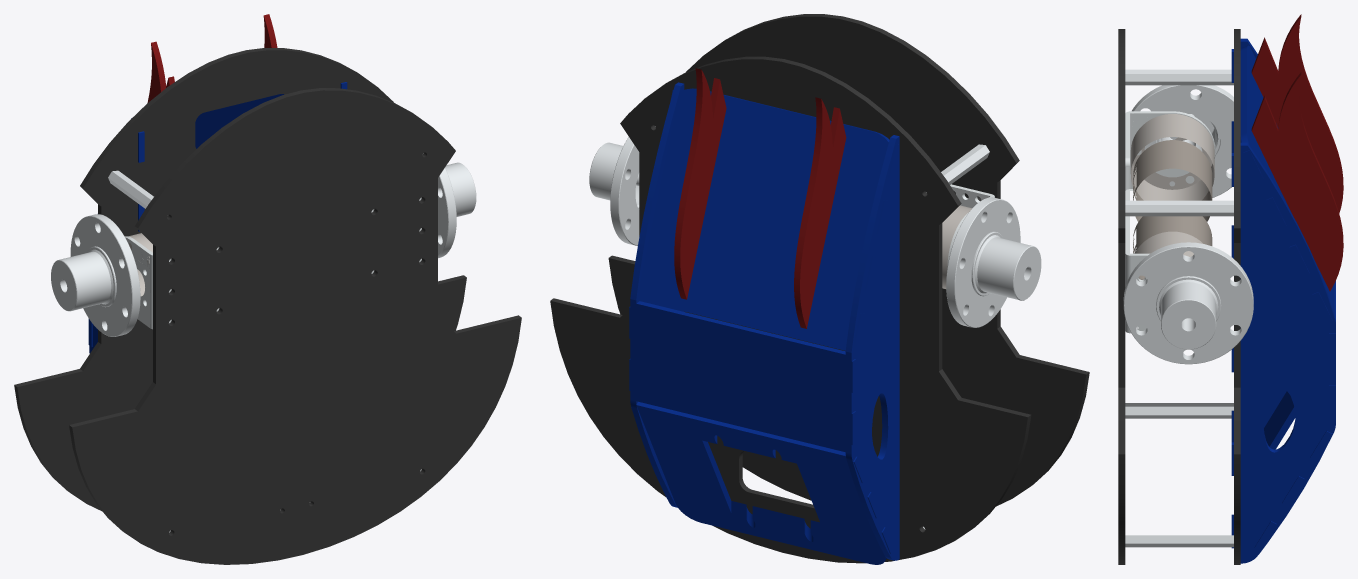
The model's file is chasis.dae.
3 renders of one model, left to right at view 1: azimuth 30°, elevation 25°; view 2: azimuth 150°, elevation 25°; view 3: azimuth 270°, elevation 25°, orthographic. The views are drawn at different scales.
Visible parts, largest first — view 1: Body_1, Body_29, Body_22, Body_23, Body_25, Body_2, Body_30, Body_34; view 2: Body_29, Body_25, Body_1, Body_26, Body_24, Body_27, Body_22, Body_35, Body_34, Body_23, Body_28, Body_30 (+1 smaller); view 3: Body_28, Body_23, Body_35, Body_34, Body_22, Body_1, Body_18, Body_29, Body_25, Body_19, Body_31, Body_30 (+9 smaller).
Part boxes in pixels (left/top/right/bottom): Body_1: left=69, top=88, right=521, bottom=564; Body_29: left=14, top=48, right=466, bottom=511; Body_22: left=51, top=214, right=140, bottom=336; Body_23: left=438, top=162, right=476, bottom=258; Body_25: left=195, top=94, right=283, bottom=148; Body_2: left=124, top=236, right=219, bottom=329; Body_30: left=108, top=170, right=153, bottom=208; Body_34: left=147, top=41, right=174, bottom=102; Body_29: left=550, top=56, right=1031, bottom=563; Body_25: left=637, top=88, right=899, bottom=350; Body_1: left=608, top=14, right=1089, bottom=506; Body_26: left=629, top=301, right=855, bottom=452; Body_24: left=631, top=401, right=893, bottom=564; Body_27: left=845, top=135, right=899, bottom=560; Body_22: left=946, top=197, right=1041, bottom=327; Body_35: left=674, top=68, right=726, bottom=299; Body_34: left=794, top=97, right=846, bottom=328; Body_23: left=589, top=137, right=639, bottom=245; Body_28: left=630, top=82, right=684, bottom=507; Body_30: left=926, top=144, right=989, bottom=192; Body_28: left=1231, top=142, right=1335, bottom=563; Body_23: left=1123, top=242, right=1253, bottom=364; Body_35: left=1251, top=72, right=1343, bottom=291; Body_34: left=1251, top=14, right=1343, bottom=213; Body_22: left=1132, top=85, right=1233, bottom=197; Body_1: left=1118, top=29, right=1125, bottom=564; Body_18: left=1130, top=114, right=1214, bottom=200; Body_29: left=1234, top=29, right=1240, bottom=564; Body_25: left=1240, top=45, right=1334, bottom=322; Body_19: left=1133, top=140, right=1212, bottom=221; Body_31: left=1125, top=200, right=1233, bottom=216; Body_30: left=1125, top=69, right=1233, bottom=85.
Size of the model in its own units: 0.2393 by 0.0987 by 0.2361.
